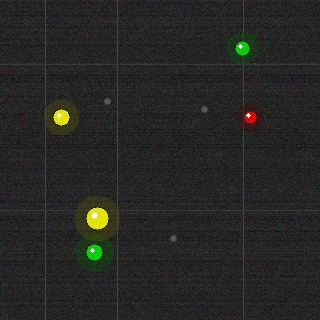green_normal: (84, 242, 104, 262), (233, 39, 251, 57)
red_fault: (242, 109, 258, 125)
yellow_warning: (84, 205, 110, 231), (51, 107, 71, 127)
